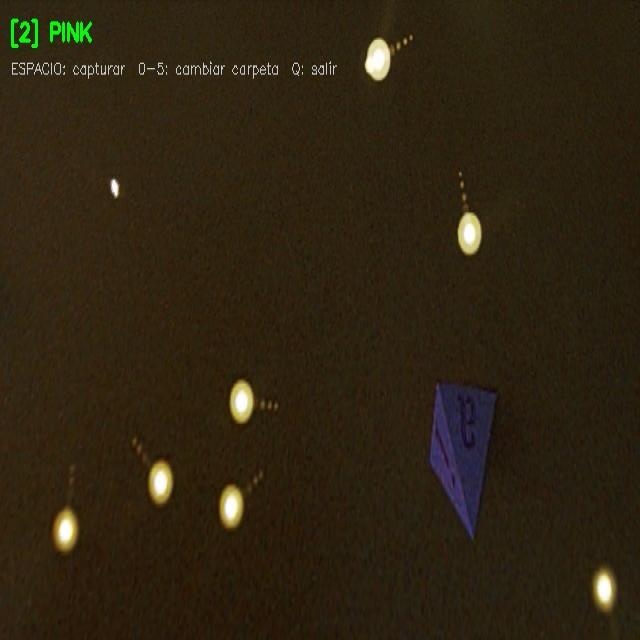pink: (430, 383, 495, 537)
